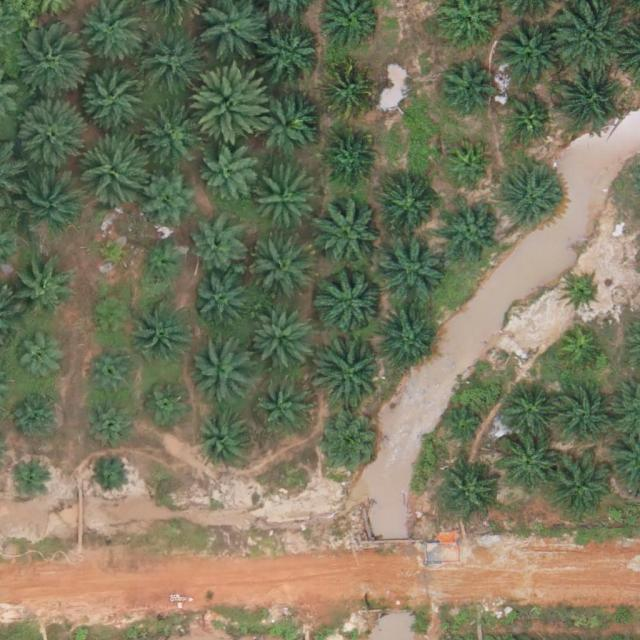Healthy: (194, 66, 272, 145), (376, 232, 447, 303), (314, 197, 385, 268), (545, 454, 616, 524), (137, 27, 207, 98), (77, 135, 147, 206), (14, 100, 85, 170), (14, 164, 84, 235), (558, 3, 628, 73), (317, 267, 387, 337), (316, 337, 386, 407), (79, 62, 149, 132), (13, 32, 83, 102), (495, 22, 558, 85), (552, 388, 615, 451), (499, 383, 562, 446), (375, 308, 438, 371), (262, 23, 325, 86), (250, 241, 313, 304), (192, 340, 255, 403), (139, 103, 202, 166), (140, 166, 203, 229), (10, 259, 73, 322), (500, 169, 563, 231), (496, 432, 558, 495), (438, 461, 500, 524), (318, 416, 380, 479), (253, 89, 315, 152), (254, 171, 316, 234), (248, 308, 310, 371), (135, 300, 197, 363), (557, 69, 619, 131), (442, 202, 504, 264), (438, 59, 493, 114), (383, 181, 438, 236), (259, 382, 314, 437), (191, 221, 246, 276), (192, 275, 247, 330), (87, 347, 142, 402), (81, 398, 136, 453), (322, 131, 376, 186), (198, 413, 252, 468), (202, 146, 256, 201)
Small: (14, 336, 61, 384), (16, 391, 63, 439), (140, 241, 187, 289), (446, 141, 493, 189), (89, 295, 136, 343), (144, 380, 191, 427), (505, 95, 552, 142), (442, 406, 489, 453), (8, 458, 48, 498), (563, 274, 602, 314), (94, 233, 133, 273), (92, 456, 131, 495)
Yellow: (320, 63, 375, 118), (557, 329, 604, 376)
